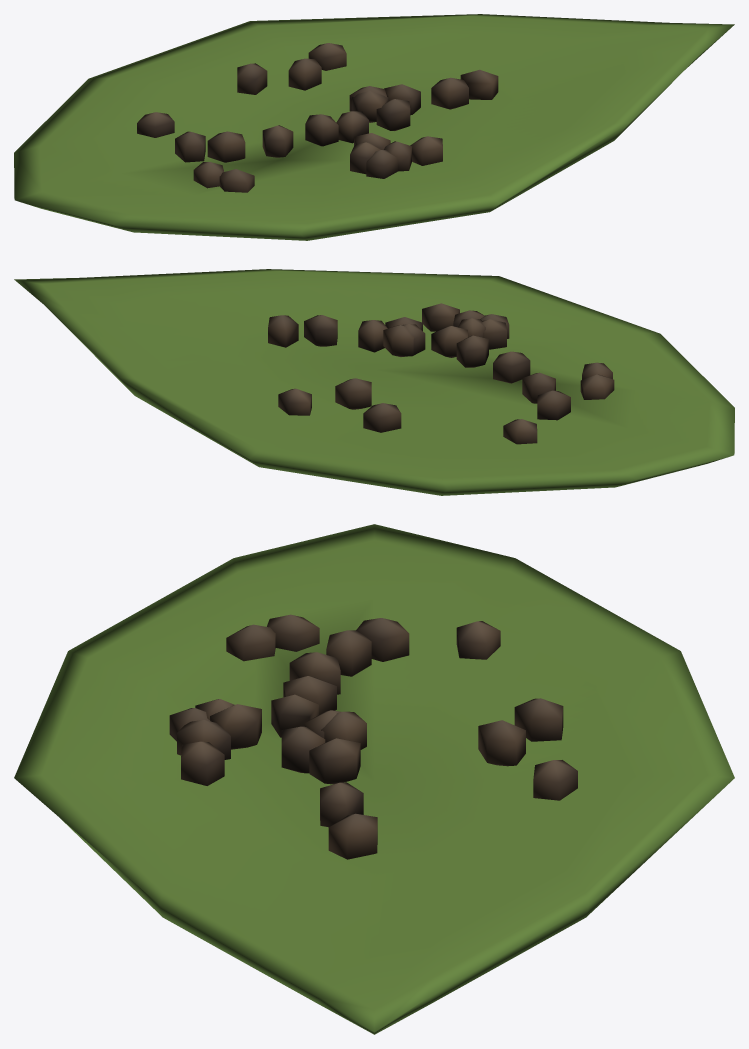
The model's file is seeds_fiber.glb.
The picture shows the model from 3 angles, top to bottom: view 1: azimuth 30°, elevation 25°; view 2: azimuth 150°, elevation 25°; view 3: azimuth 270°, elevation 25°; orthographic projection. The views are drawn at different scales.
Visible parts, largest first — view 1: seeds_fiber; view 2: seeds_fiber; view 3: seeds_fiber.
Boxes of the visible parts, box(x1,y1,x2,y2) form: seeds_fiber: box(14, 14, 734, 240); seeds_fiber: box(14, 269, 734, 495); seeds_fiber: box(14, 524, 734, 1034).
Bounding box in the file's own units: 0.075 × 0.0078 × 0.045.
